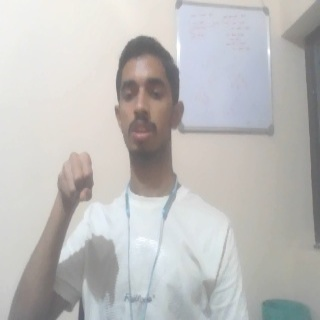Face: (111, 36, 188, 161)
Yes: (55, 149, 96, 211)
